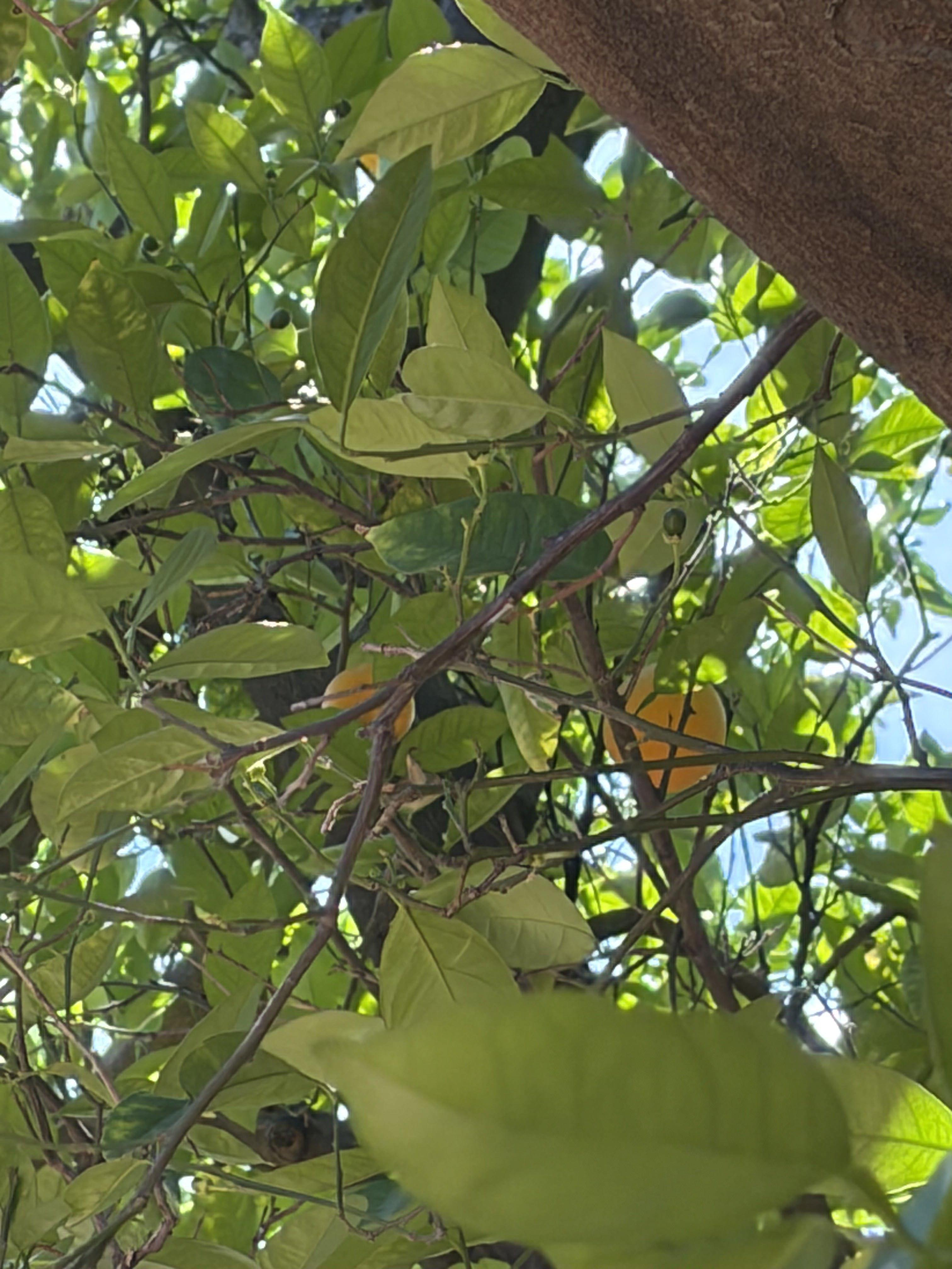orange: (602, 663, 725, 793), (321, 663, 414, 747)
